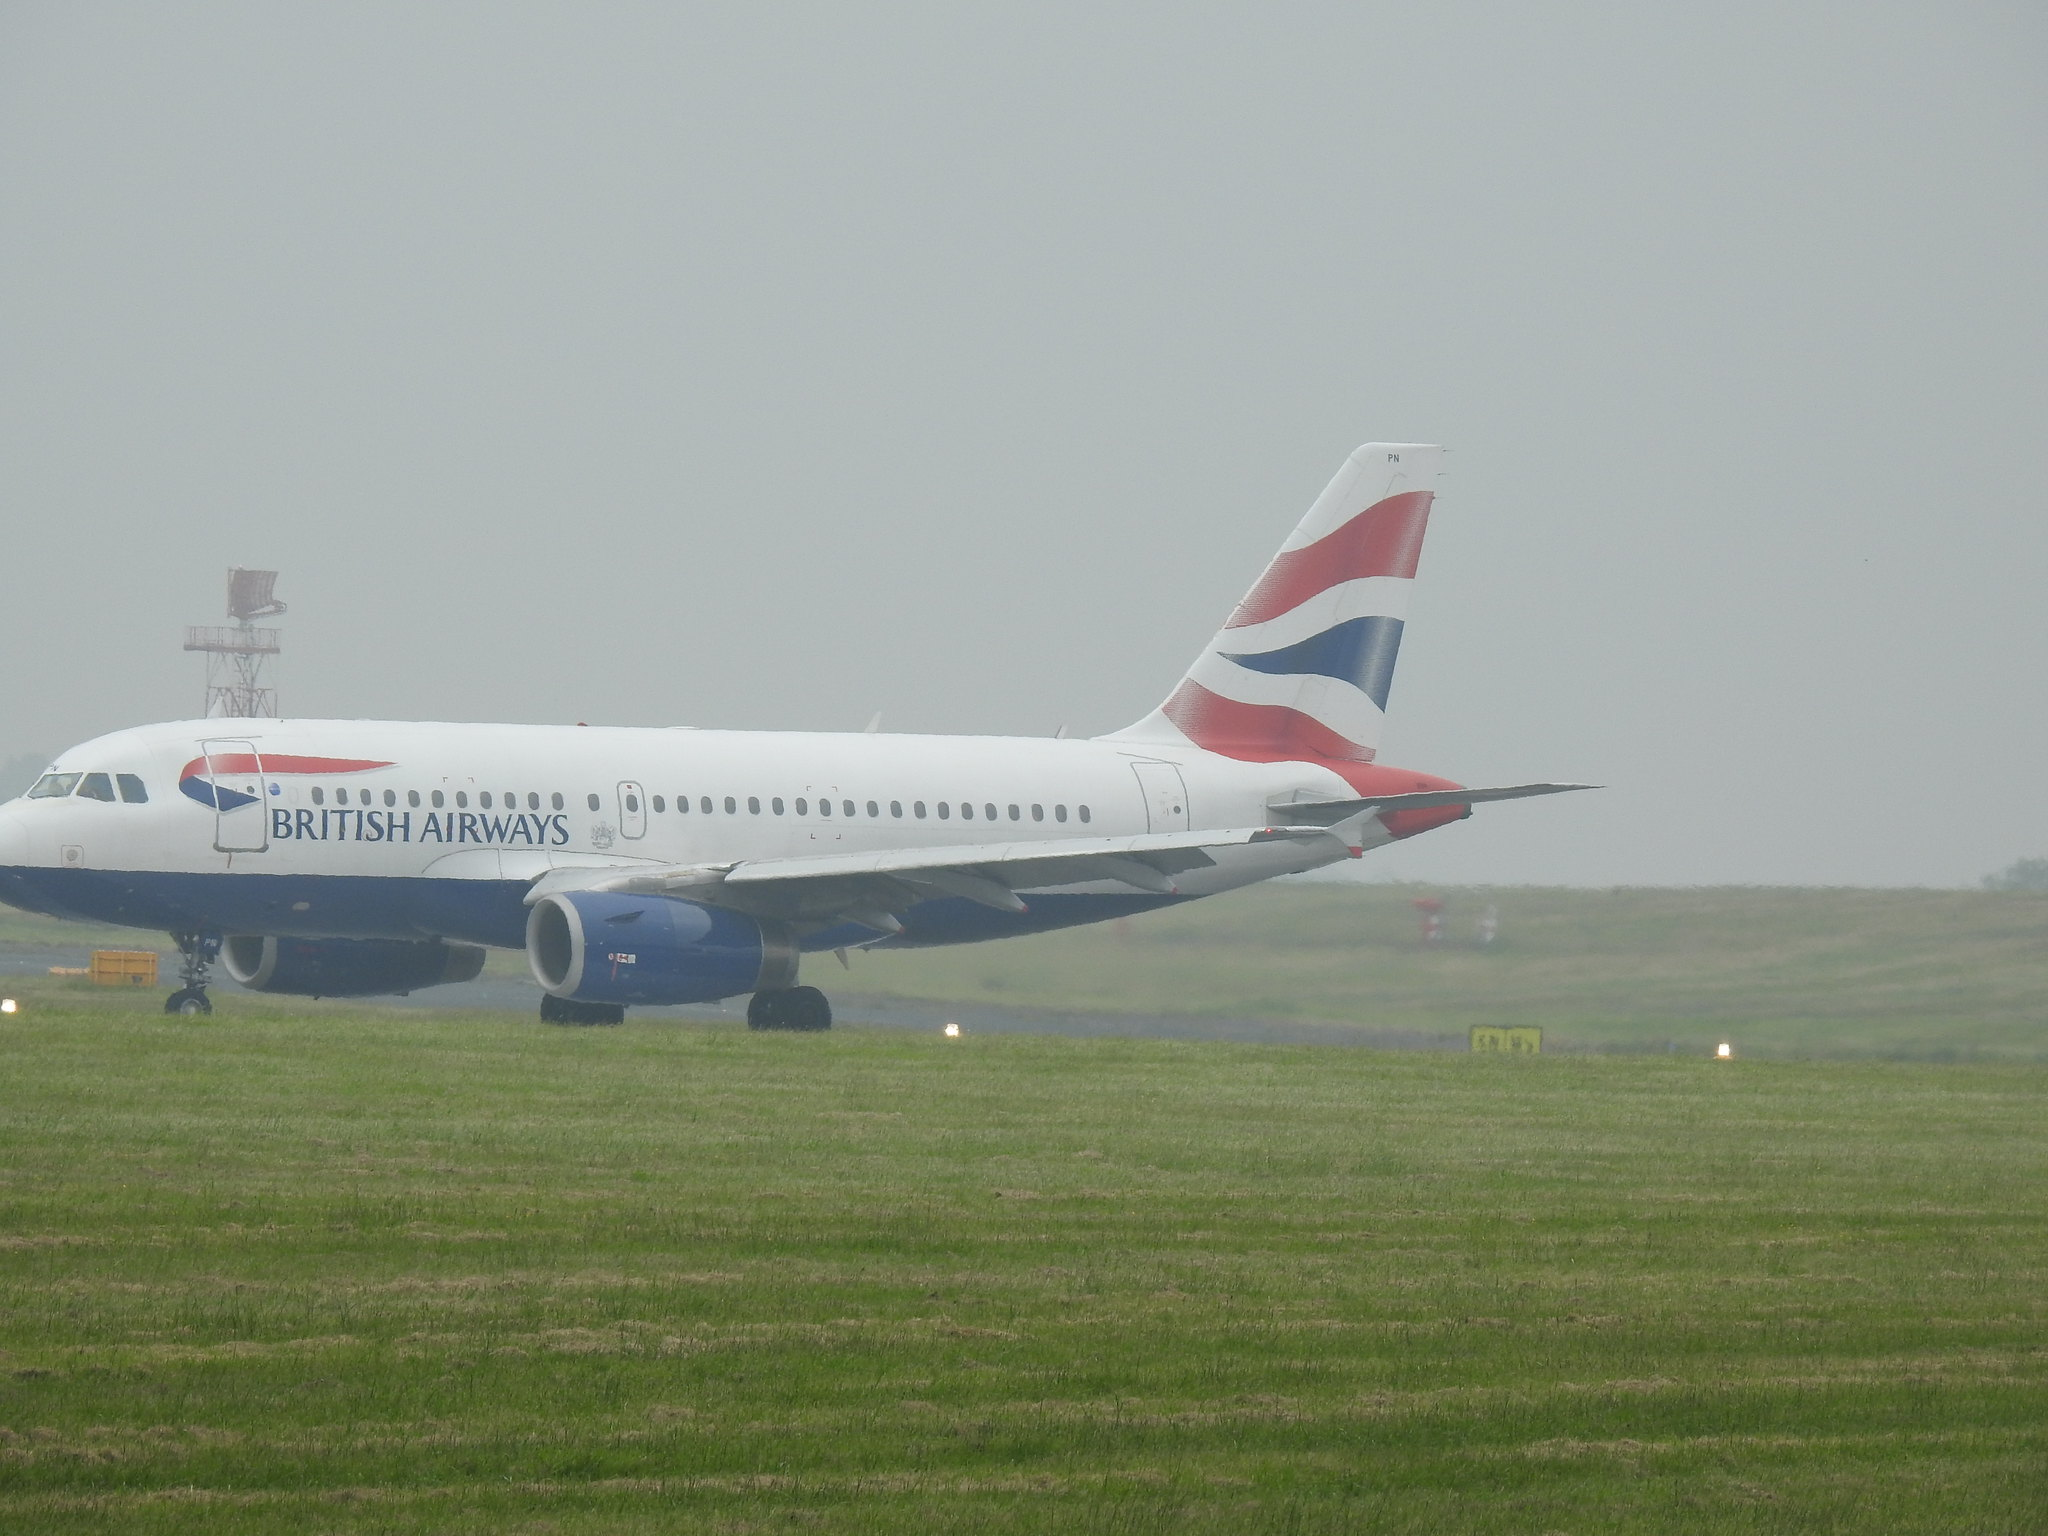aeroplane: (2, 432, 1617, 1028)
